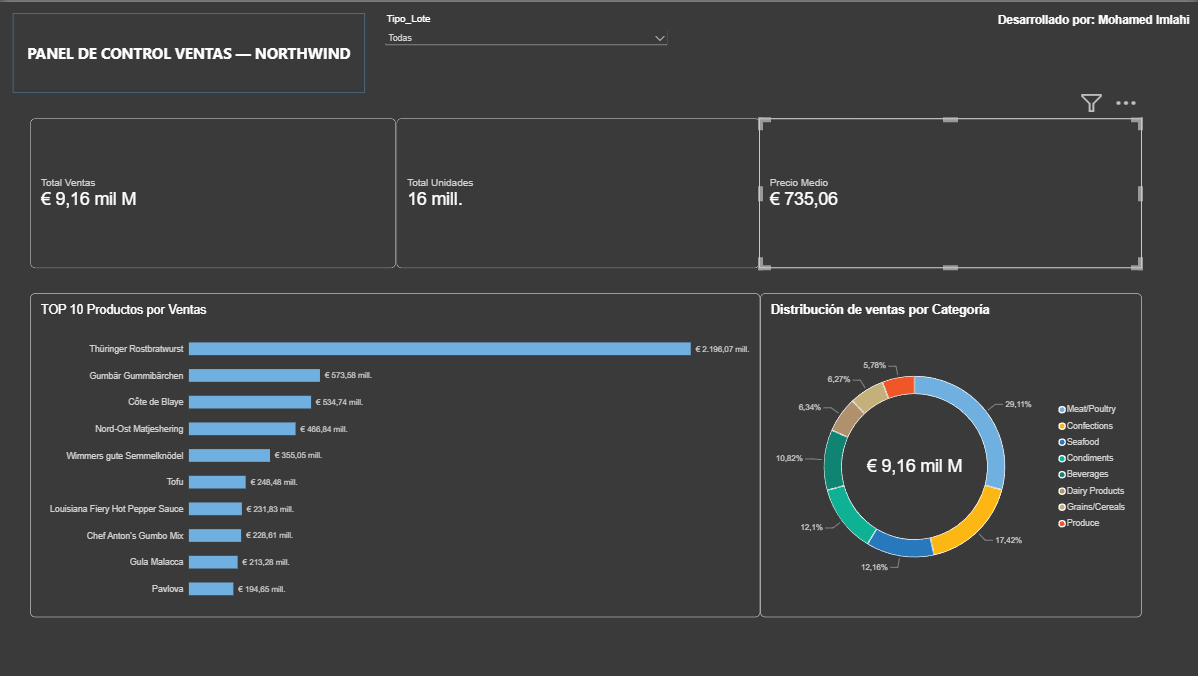

This screenshot's page, from the dashboard's own definition file:
{"tool":"powerbi","page":{"name":"Página 1","canvas":[1920,1080],"ordinal":0},"visuals":[{"type":"cardVisual","fields":{"Data":["ordenes_detalle.Total Ventas"]},"box":[50,186.7,585,240],"z":0},{"type":"barChart","title":"TOP 10 Productos por Ventas","fields":{"Category":["ordenes_detalle.ProductName"],"Y":["ordenes_detalle.Total Ventas"]},"box":[50,466,1168,518],"z":1000},{"type":"slicer","fields":{"Values":["ordenes_detalle.Tipo_Lote"]},"box":[611.7,18.3,463.3,136.7],"z":2000},{"type":"shape","box":[21.7,18.3,563.8,127.5],"z":3000},{"type":"cardVisual","fields":{"Data":["ordenes_detalle.Total Unidades"]},"box":[635,186.7,581.7,240],"z":4000},{"type":"cardVisual","fields":{"Data":["ordenes_detalle.Precio Medio"]},"box":[1216,186,612,240],"z":5000},{"type":"donutChart","title":"Distribución de ventas por Categoría","fields":{"Category":["ordenes_detalle.CategoryName"],"Y":["ordenes_detalle.Total Ventas"]},"box":[1218,466,610,518],"z":6000},{"type":"textbox","box":[1598,18,322,138],"z":7000}]}

Visuals, with their boxes in screenshot pixels (x1, y1, x2, y2), scaled from the page's 1920x1080 canvas onto the 1198x676 screenshot:
cardVisual - ordenes_detalle.Total Ventas: l=31, t=117, r=396, b=267
"TOP 10 Productos por Ventas" barChart: l=31, t=292, r=760, b=616
slicer - ordenes_detalle.Tipo_Lote: l=382, t=11, r=671, b=97
shape: l=14, t=11, r=365, b=91
cardVisual - ordenes_detalle.Total Unidades: l=396, t=117, r=759, b=267
cardVisual - ordenes_detalle.Precio Medio: l=759, t=116, r=1141, b=267
"Distribución de ventas por Categoría" donutChart: l=760, t=292, r=1141, b=616
textbox: l=997, t=11, r=1197, b=98
